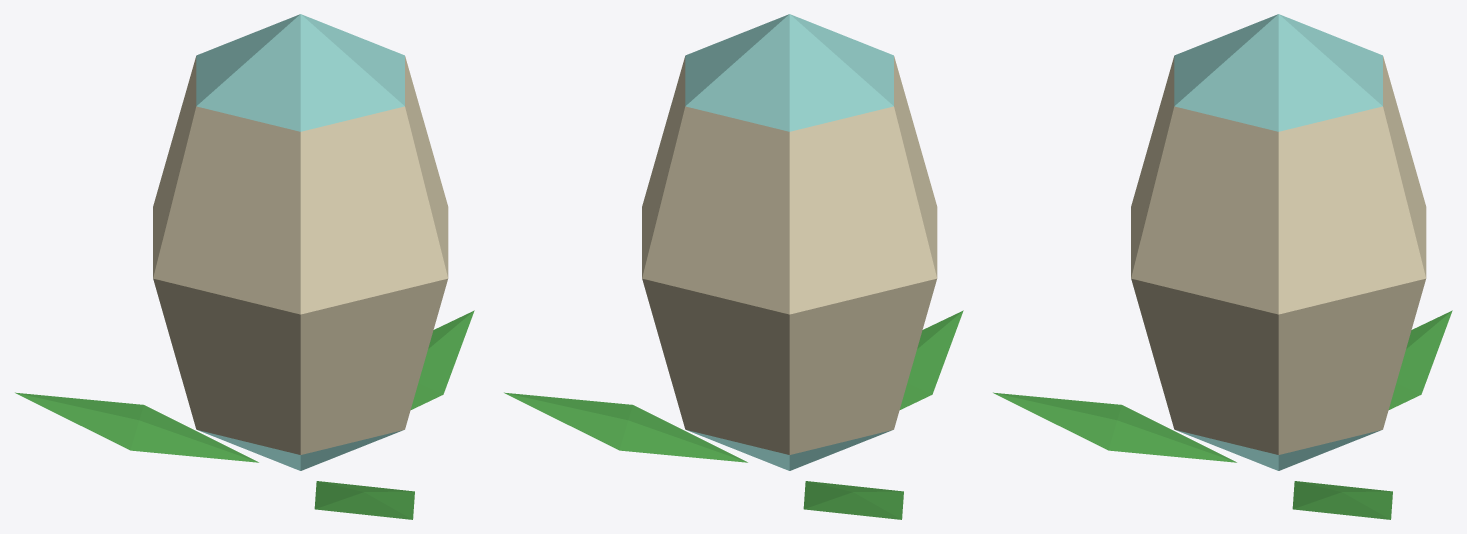
Rendered from food_egg_b.obj.
The picture shows the model from 3 angles, left to right: view 1: azimuth 30°, elevation 25°; view 2: azimuth 150°, elevation 25°; view 3: azimuth 270°, elevation 25°; orthographic projection.
Parts seen in each view (by area): view 1: food_egg_b; view 2: food_egg_b; view 3: food_egg_b.
Boxes of the visible parts, box(x1,y1,x2,y2) form: food_egg_b: box(15, 14, 474, 519); food_egg_b: box(504, 14, 963, 519); food_egg_b: box(993, 14, 1452, 519).
Bounding box in the file's own units: 1.46 × 1.48 × 1.35.
